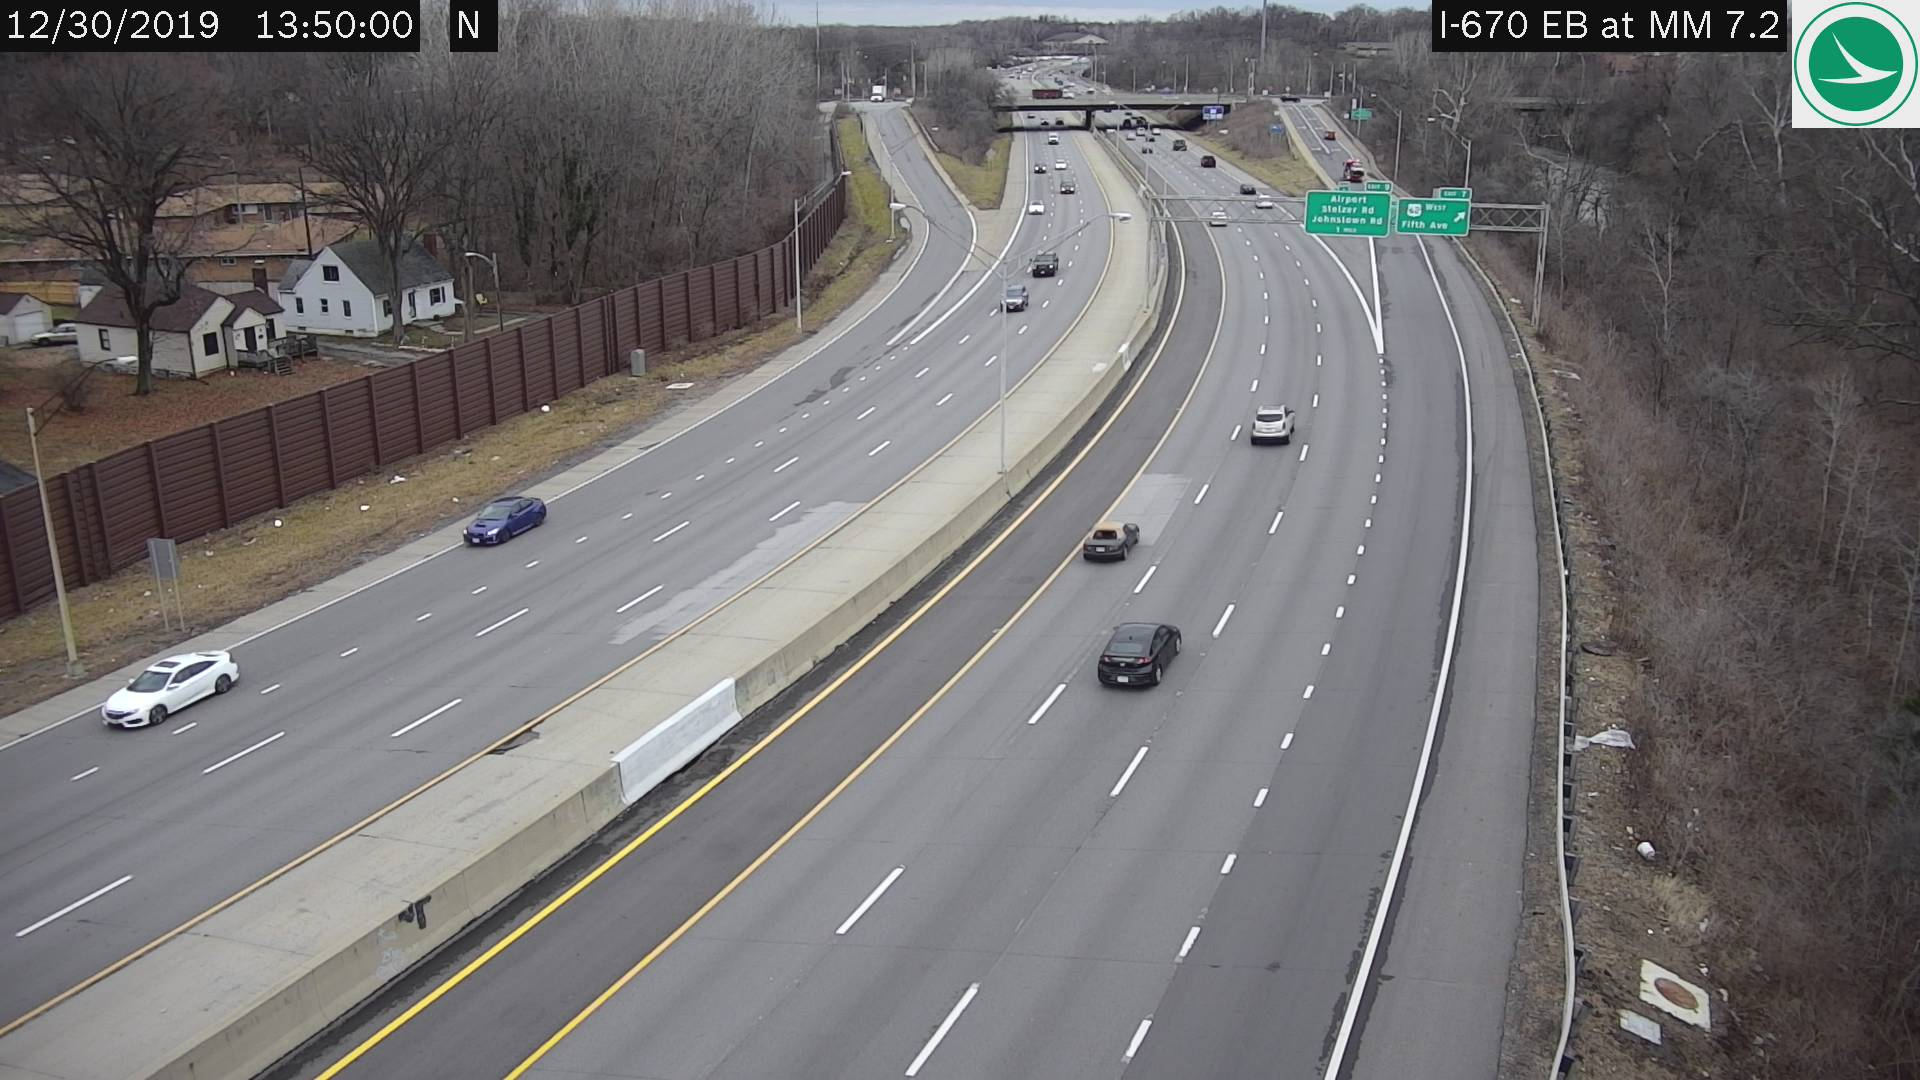car: (98, 651, 237, 732), (1098, 620, 1178, 688), (462, 496, 546, 545), (1083, 524, 1138, 560), (1250, 404, 1290, 440), (998, 284, 1030, 313), (1033, 251, 1058, 277), (1027, 196, 1043, 214), (1255, 193, 1270, 208), (1201, 153, 1218, 166), (1211, 211, 1226, 224), (1062, 177, 1073, 193), (1242, 182, 1258, 193), (1033, 162, 1044, 175)
